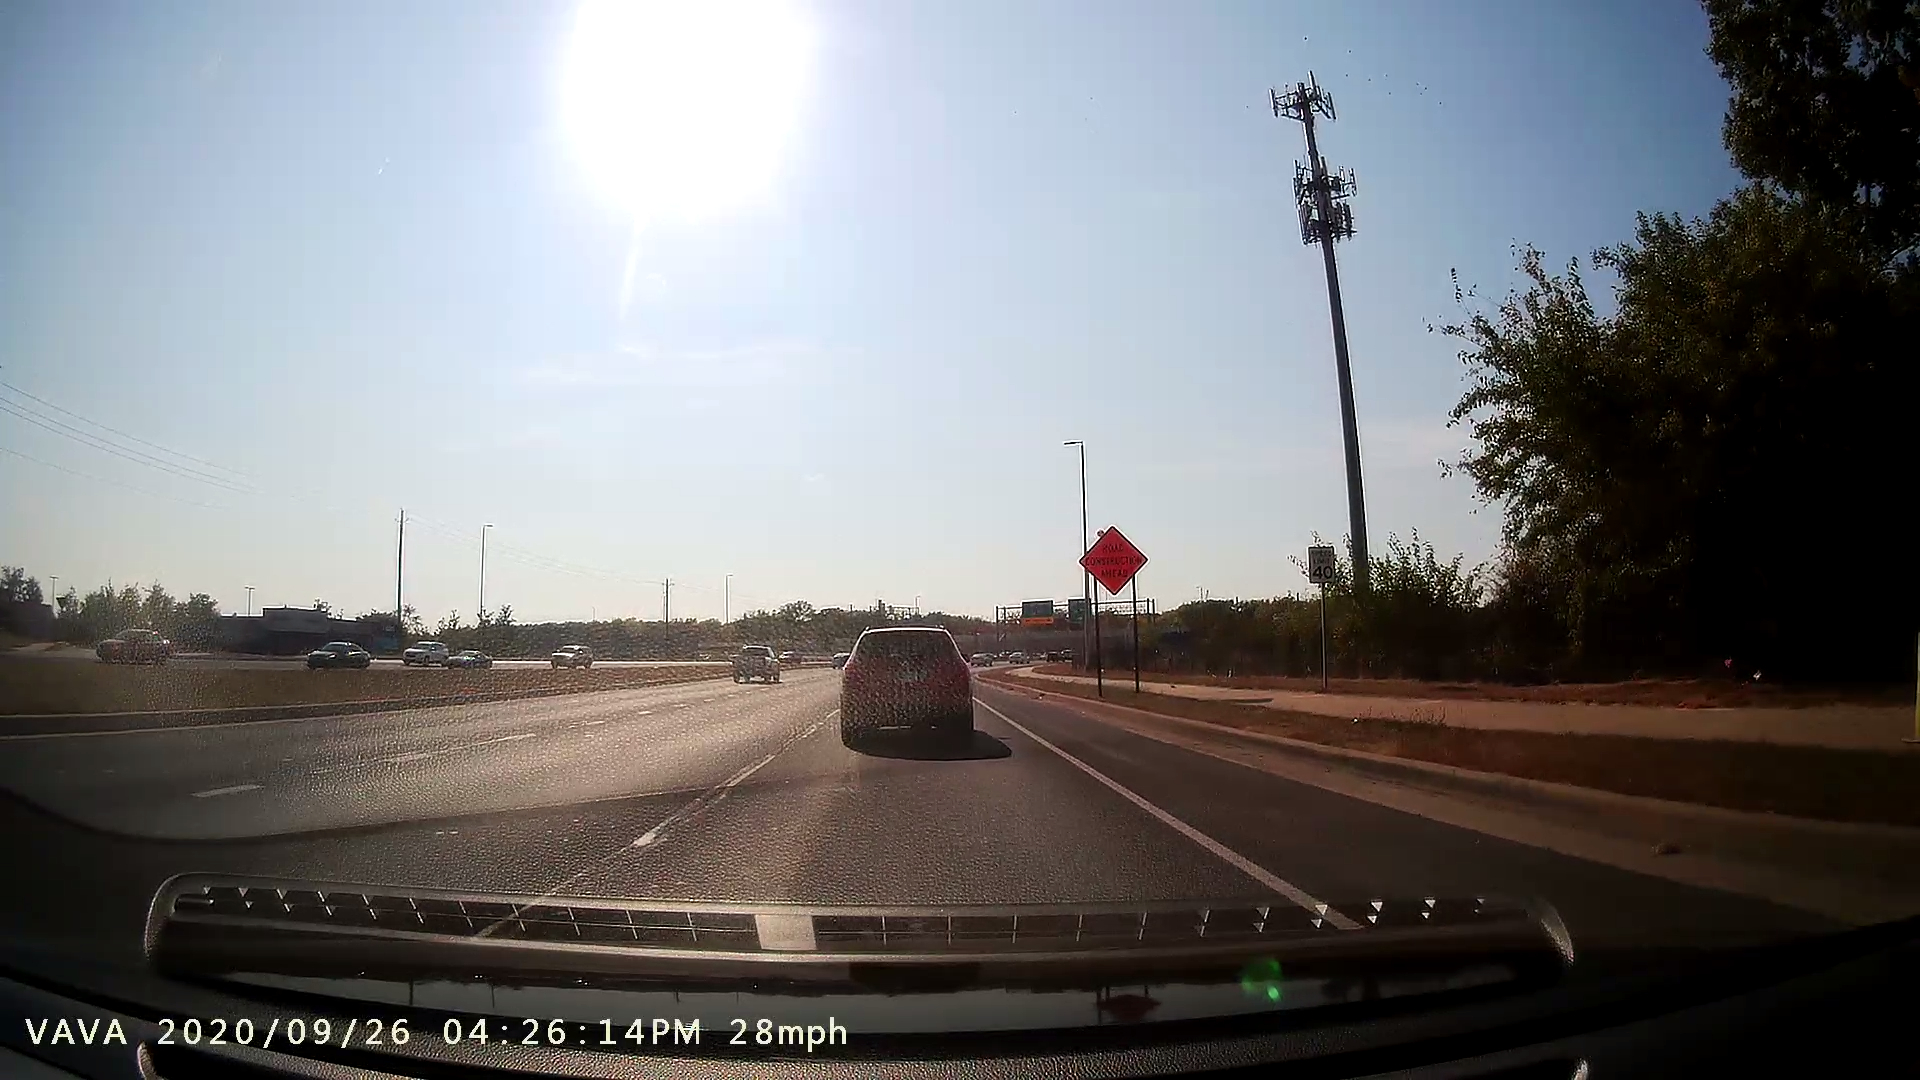ttcs_end_const: (1069, 505, 1158, 702)
